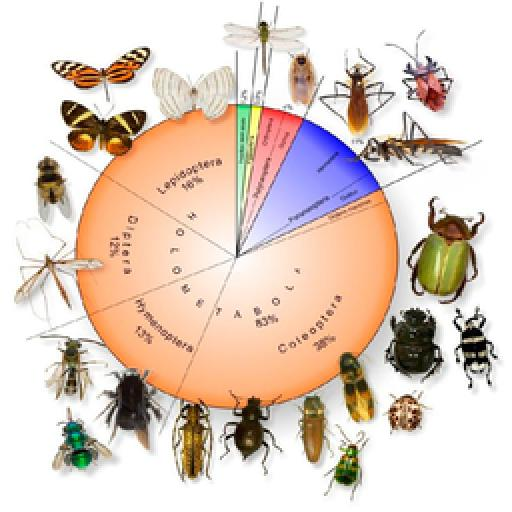insects: (10, 218, 106, 332), (408, 194, 488, 308), (220, 2, 306, 108), (360, 116, 482, 182), (318, 48, 390, 138), (218, 390, 284, 482), (98, 364, 162, 452), (58, 98, 150, 158), (382, 304, 448, 384), (316, 420, 376, 502), (152, 64, 236, 122), (50, 46, 152, 92), (168, 392, 216, 486), (42, 334, 102, 408), (450, 302, 500, 390), (398, 50, 458, 116), (50, 416, 114, 476), (336, 352, 380, 430), (294, 388, 332, 468), (30, 154, 72, 226), (382, 388, 430, 438), (286, 50, 320, 112)
